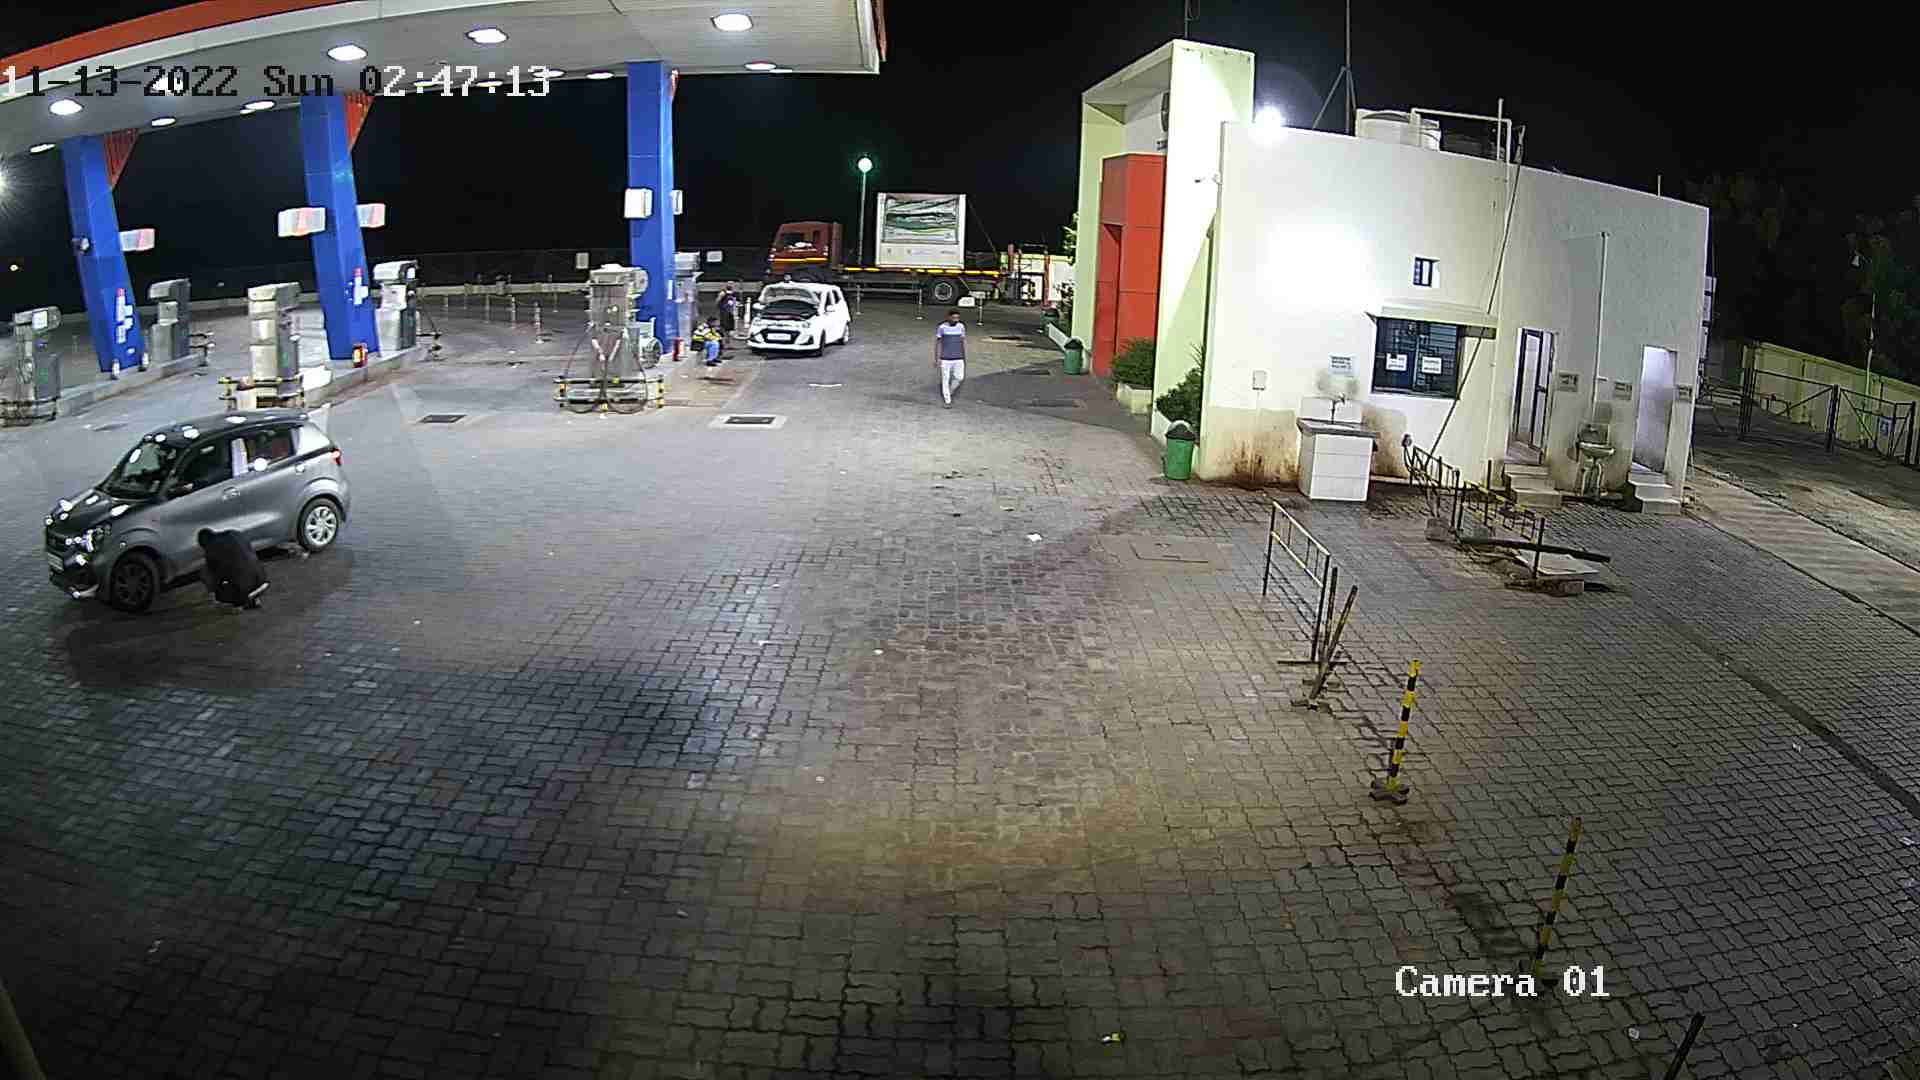Car: (38, 398, 363, 618), (740, 276, 858, 360)
HMV: (752, 186, 1040, 311)
